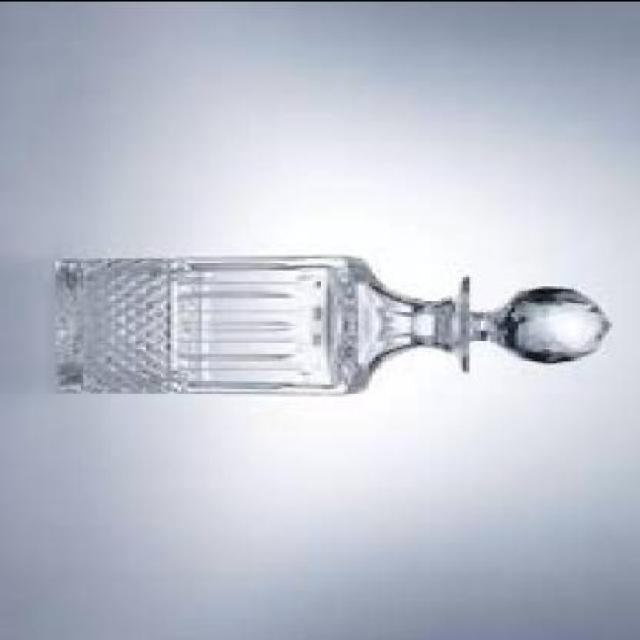glass: (55, 251, 616, 391)
